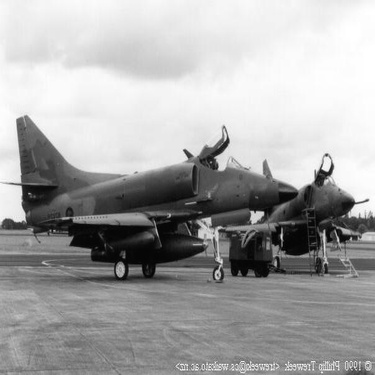airplane: (1, 106, 302, 280), (221, 137, 370, 279)
